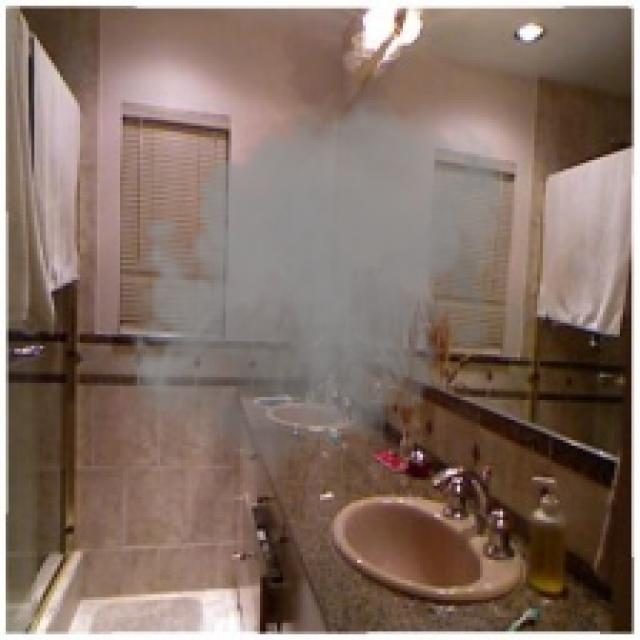smoke: (117, 83, 514, 494)
